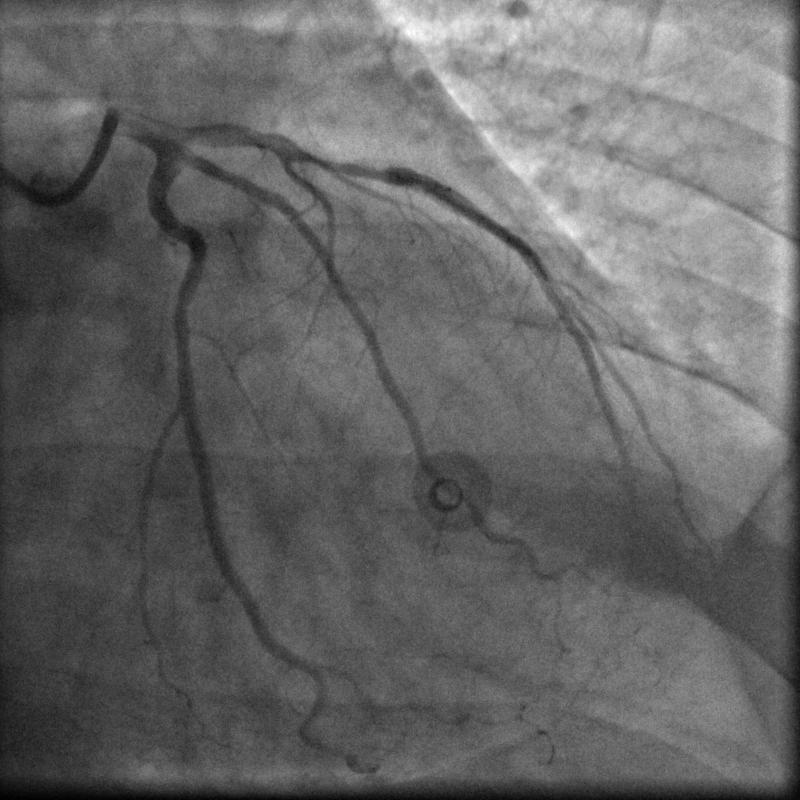Stenosis: (303, 145, 393, 188)
